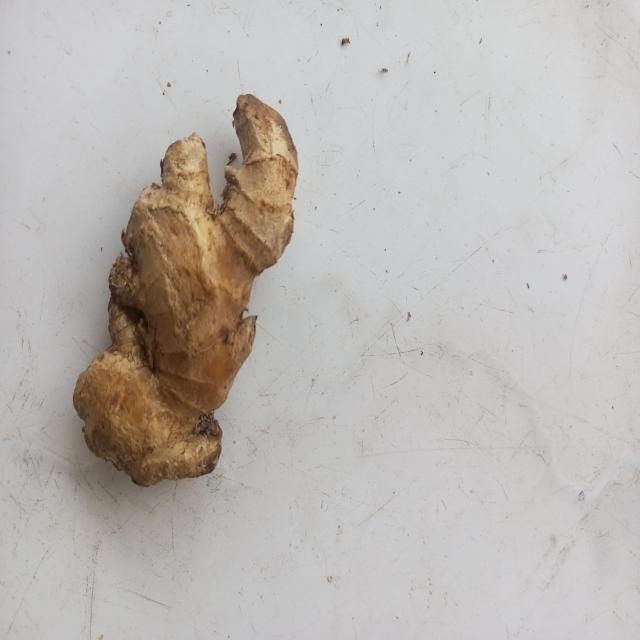ginger: (77, 99, 284, 463)
